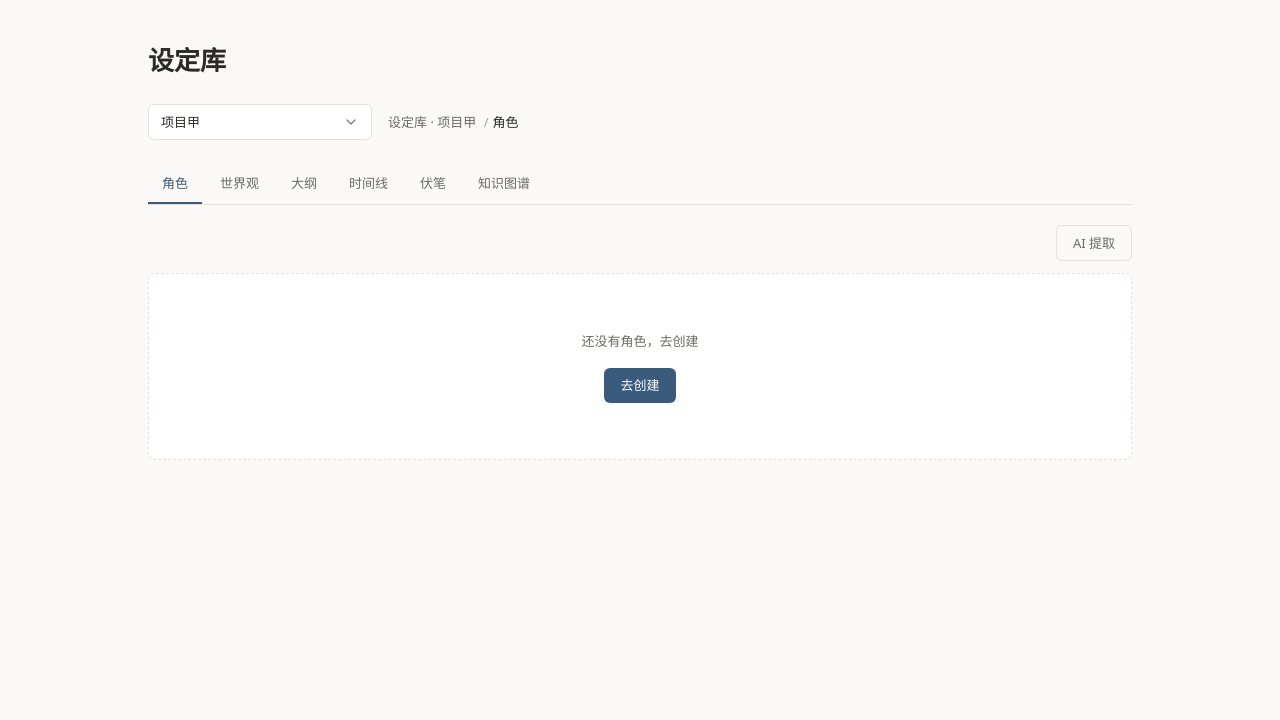
Test: 设定库页 — F43 P2 地图工作台（世界观 tab，spec §5.8-5.13/§9.5 M1-M13） › M2 点击地图节点 → map-canvas 出现 + 面包屑 map-bc-current 文本 = 地图名
Click the tab "世界观": {"x": 240, "y": 184} 206,164 -> 273,204
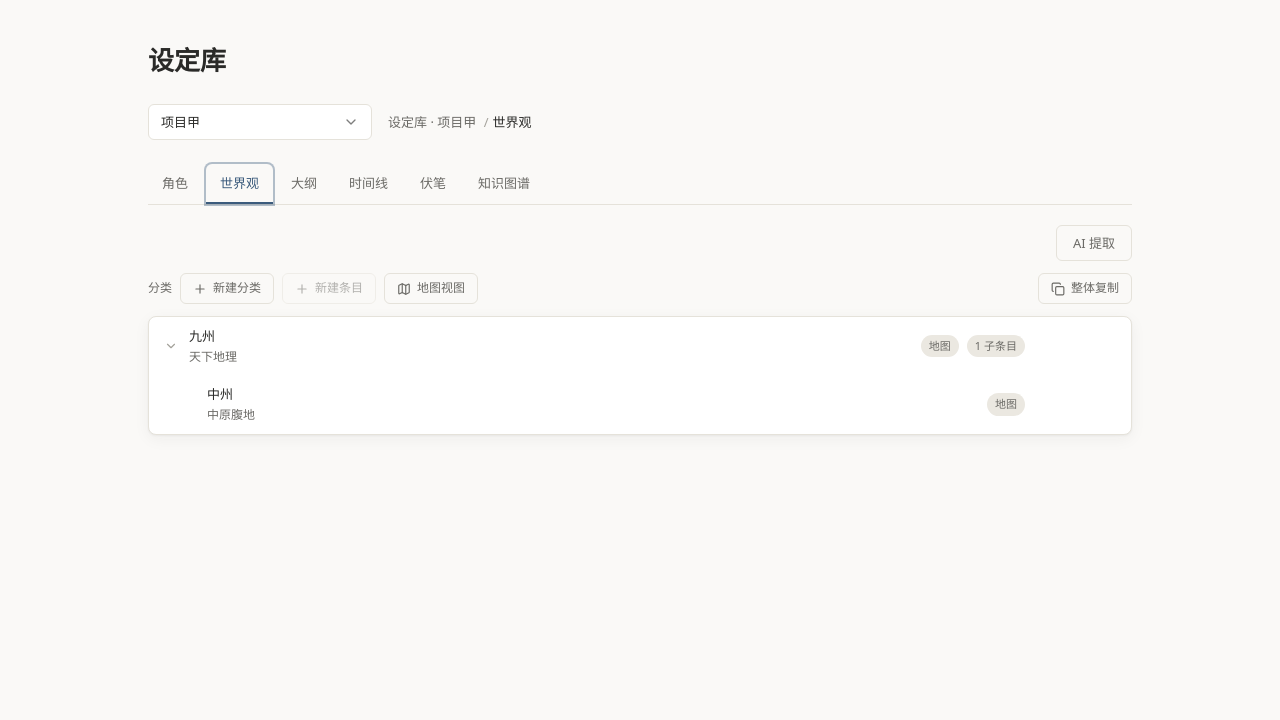
expect the element with test id "library-list" is shown: met, box 148,316 -> 1132,435
Click the button with test id "map-view-entry": {"x": 431, "y": 289} 384,273 -> 478,304
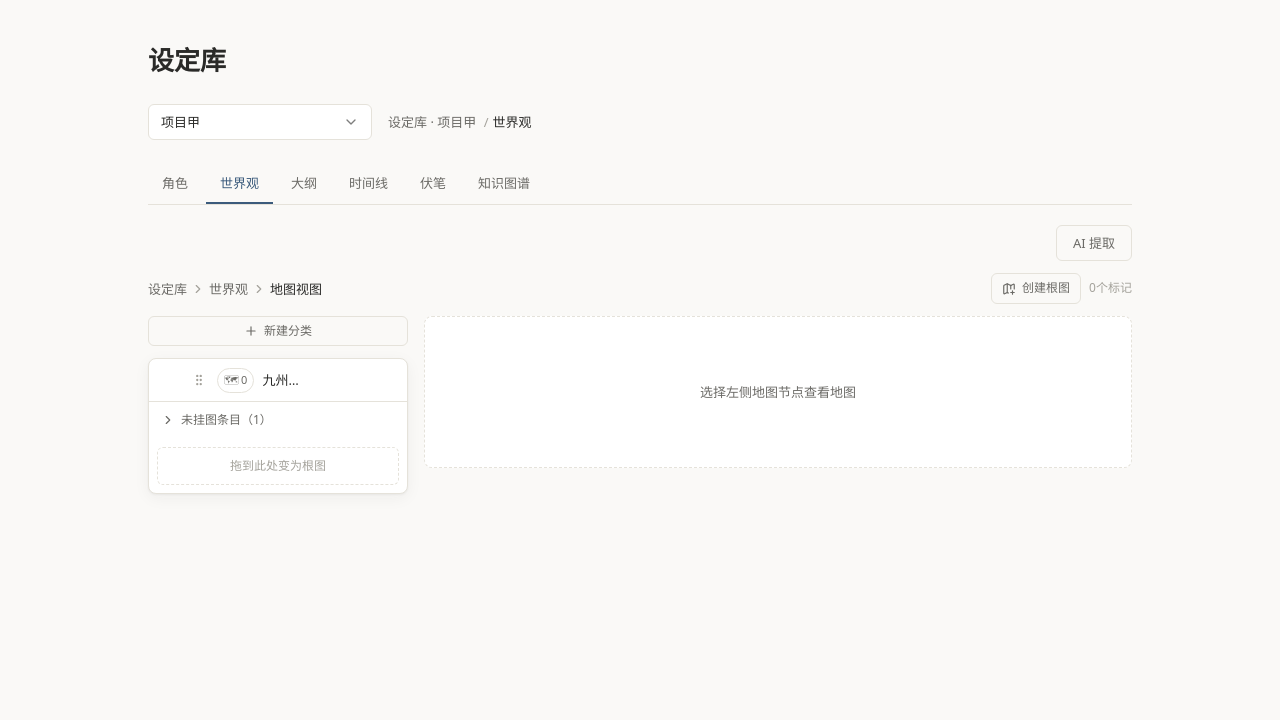
expect the element with test id "map-workbench" is shown: met, box 148,273 -> 1132,506
Click the button with test id "world-map-badge-w1": {"x": 236, "y": 380} 217,368 -> 254,392
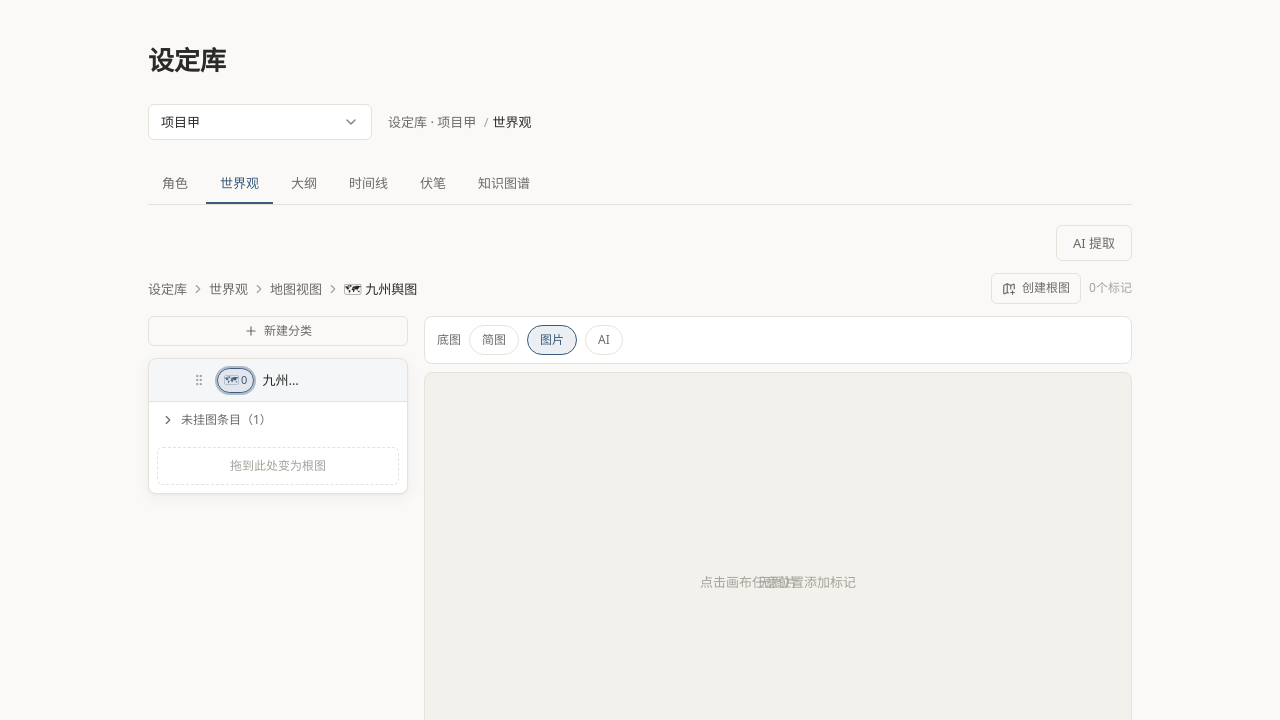
expect the element with test id "map-breadcrumb" is shown: met, box 148,273 -> 1132,304
expect the text with test id "map-bc-current" shows "九州舆图": met, box 365,280 -> 417,298
